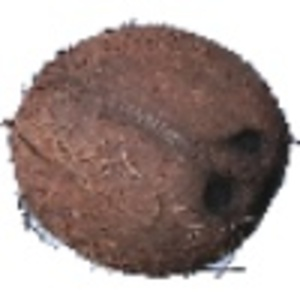coco: (1, 23, 300, 279)
